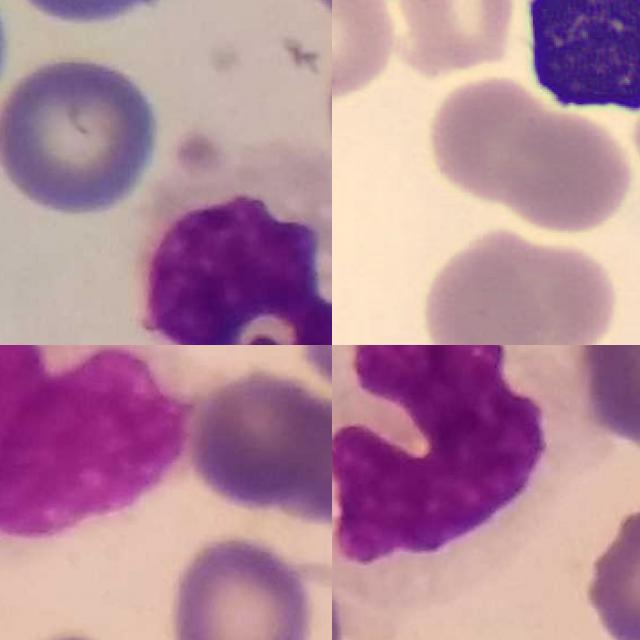Lymphocyte: (513, 0, 640, 122)
Monocyte: (332, 345, 574, 571), (0, 345, 200, 545), (140, 138, 332, 345)
RBC: (423, 69, 638, 233), (415, 226, 620, 345), (392, 0, 525, 74), (332, 0, 398, 107)
